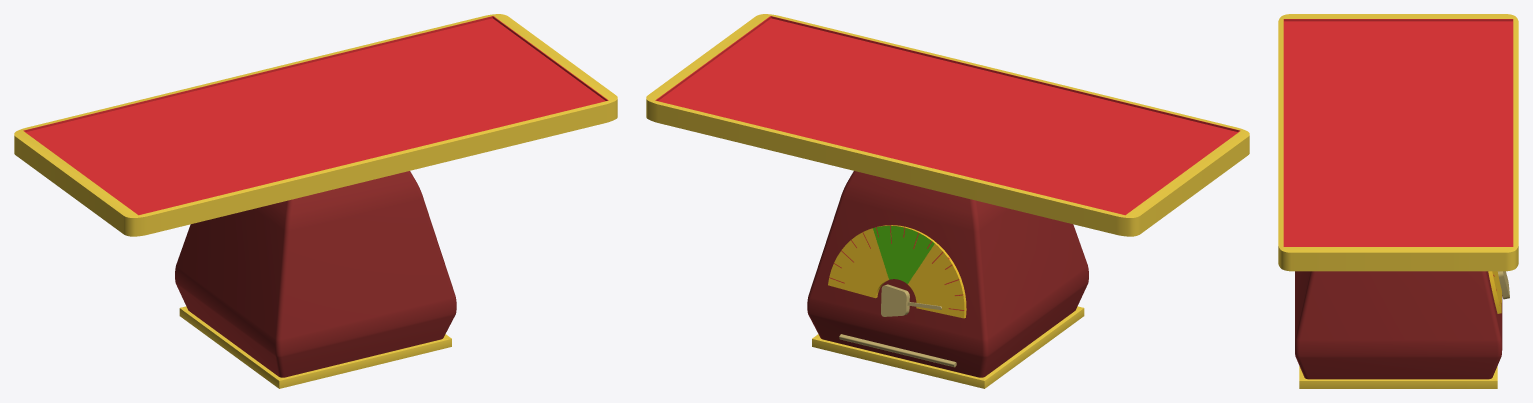
Rendered from WeighScales(NoP).fbx.
3 renders of one model, left to right at view 1: azimuth 30°, elevation 25°; view 2: azimuth 150°, elevation 25°; view 3: azimuth 270°, elevation 25°, orthographic.
Parts seen in each view (by area): view 1: BeDo, Can; view 2: BeDo, Can, Rule, Sting, WeighScaleTag; view 3: BeDo, Can, Rule, Sting.
Part boxes in pixels (x1=…): BeDo: x1=14, y1=14, x2=617, y2=236; Can: x1=175, y1=171, x2=456, y2=388; BeDo: x1=646, y1=14, x2=1249, y2=236; Can: x1=807, y1=171, x2=1088, y2=388; Rule: x1=828, y1=225, x2=966, y2=318; Sting: x1=881, y1=284, x2=941, y2=316; WeighScaleTag: x1=839, y1=334, x2=956, y2=367; BeDo: x1=1278, y1=14, x2=1518, y2=271; Can: x1=1295, y1=271, x2=1502, y2=388; Rule: x1=1488, y1=271, x2=1501, y2=313; Sting: x1=1497, y1=271, x2=1509, y2=299.
Size of the model in its own units: 6.01 by 2.51 by 2.56.
Materials: 7 (7 with a texture image).
